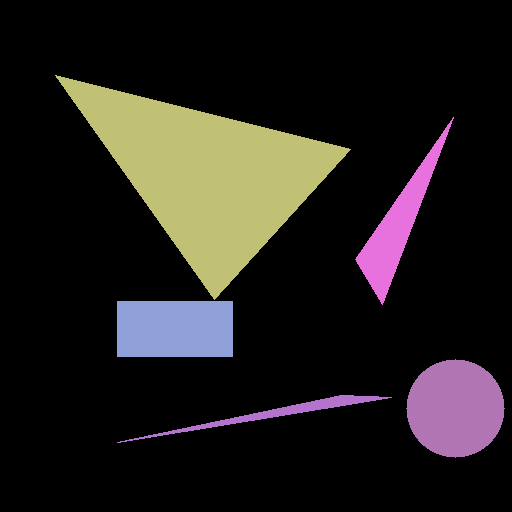circle: (406, 359, 504, 457)
rectangle: (117, 301, 232, 356)
triangle: (55, 75, 350, 299), (355, 117, 453, 304)
